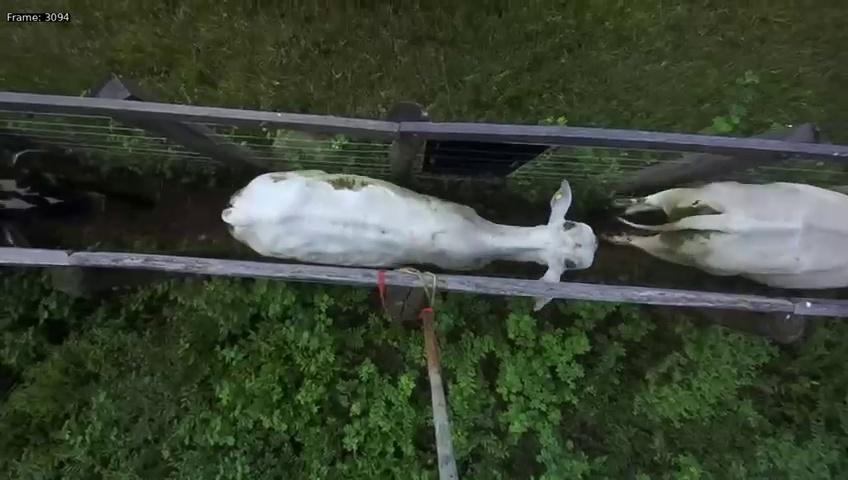cattle: (218, 161, 599, 312)
